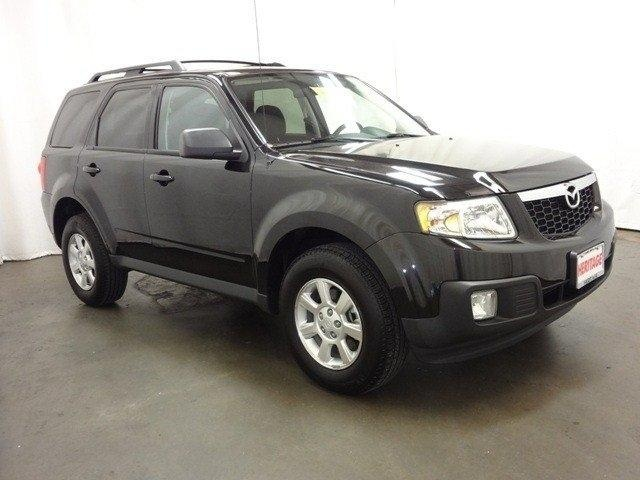car: (31, 37, 618, 413)
